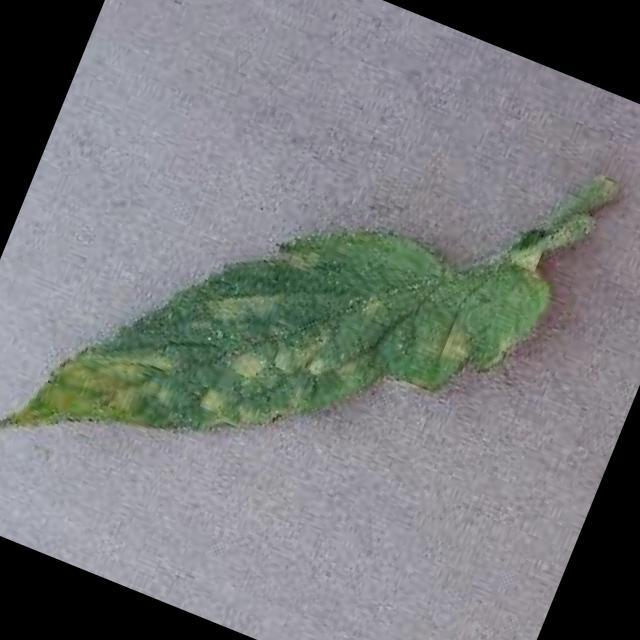Tomato mold leaf: (8, 108, 556, 596)
